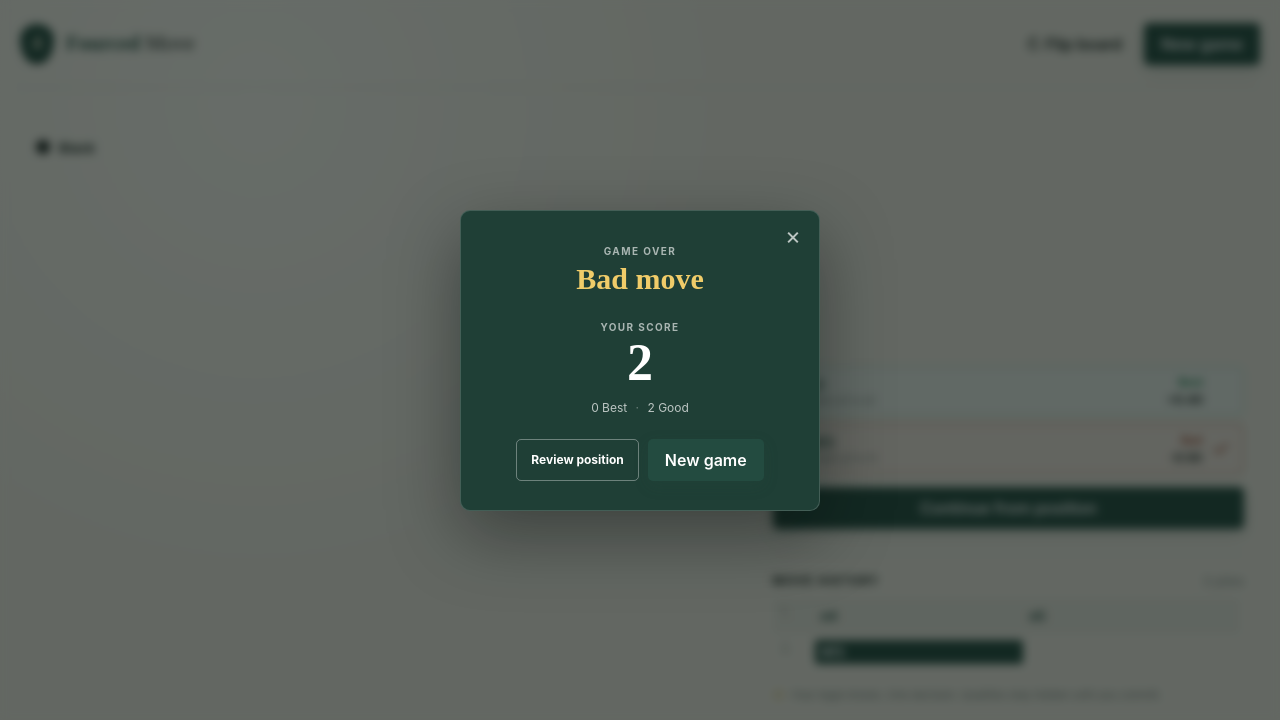
Scenario: completed game review › includes a played move omitted from the initial engine analysis
Step 1. Click the button "Review position" → click(578, 460), box [516,438,639,480]
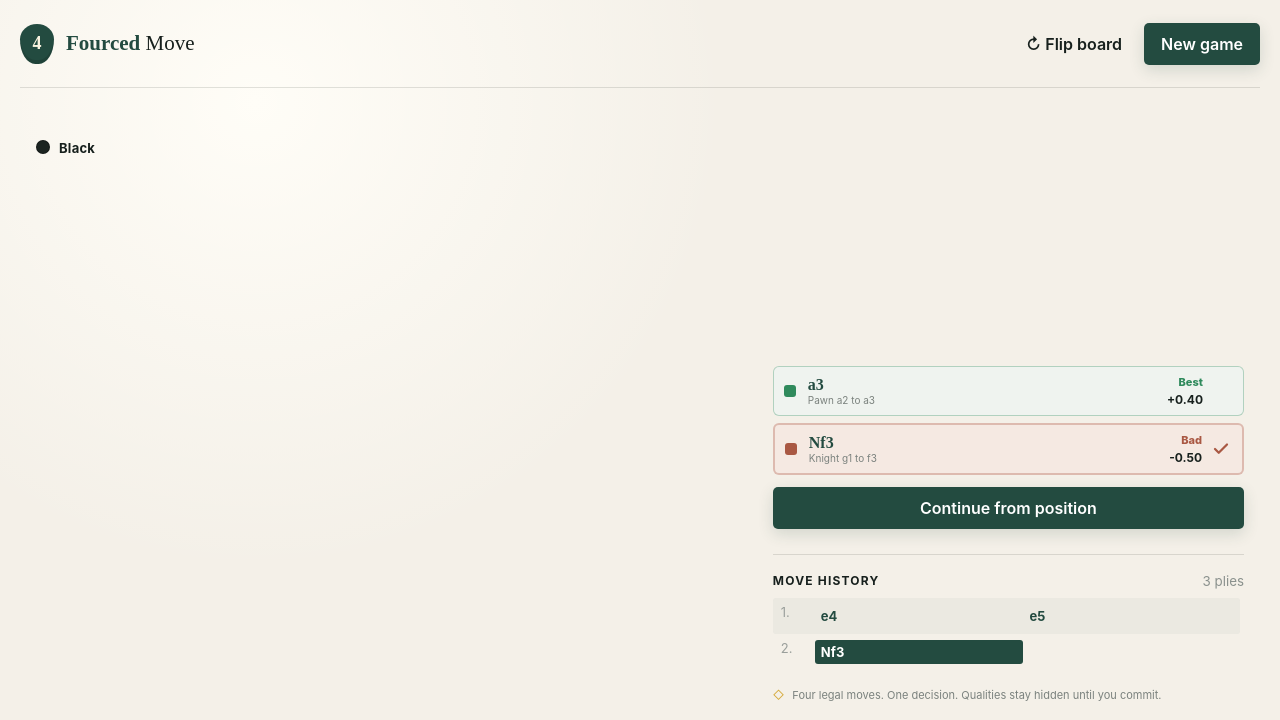
Step 2. Click the button named "Review 1. e4" → click(919, 616), box [815,604,1023,628]
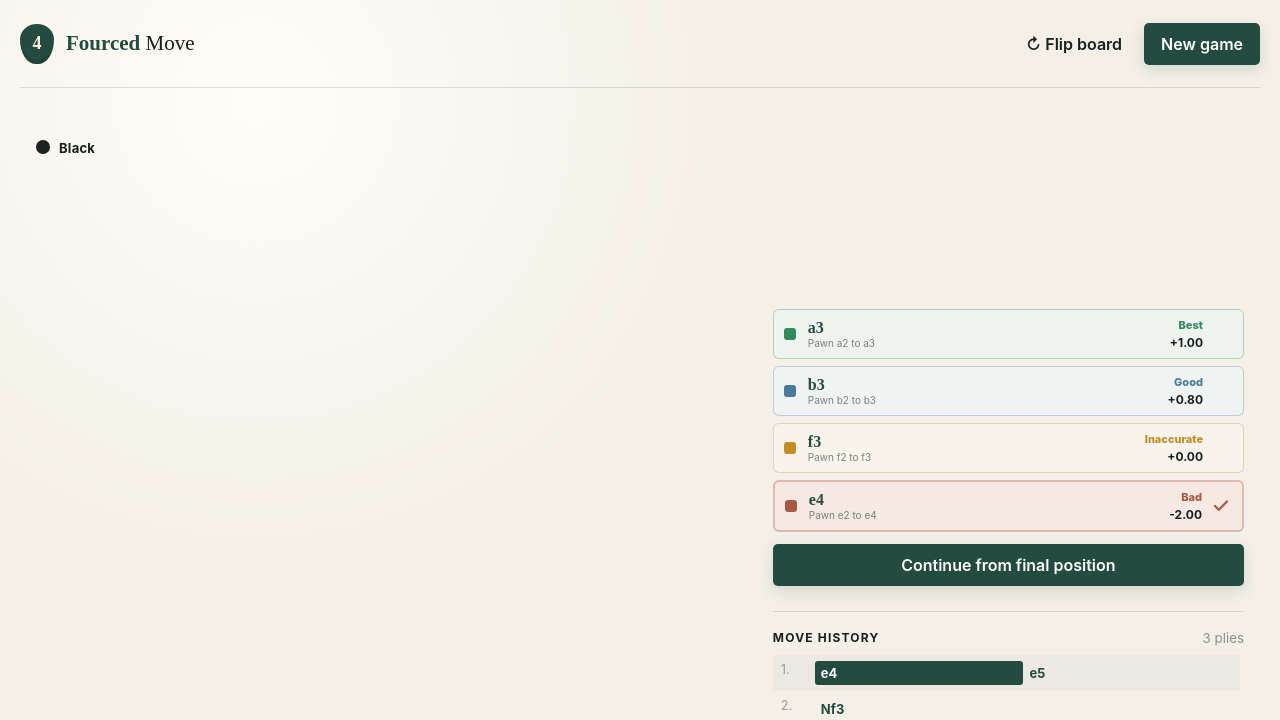
Result: the element named "e4, Bad, -2.00, played" is shown at [773,480,1244,532]
